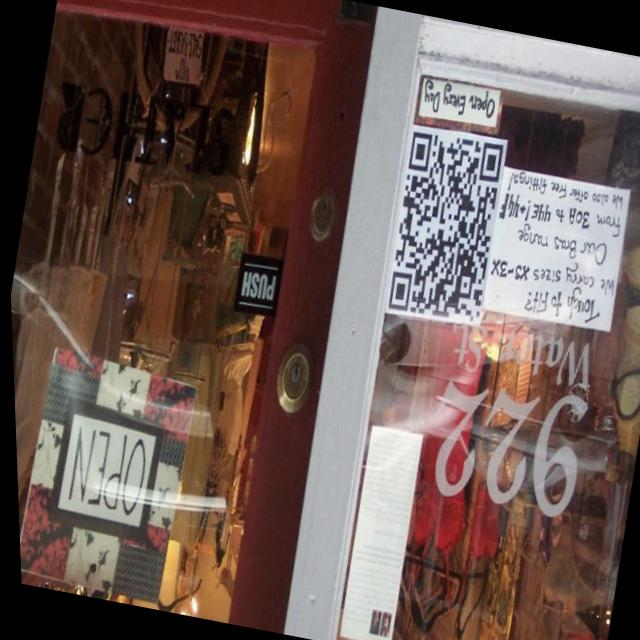qrcode: (379, 130, 510, 326)
